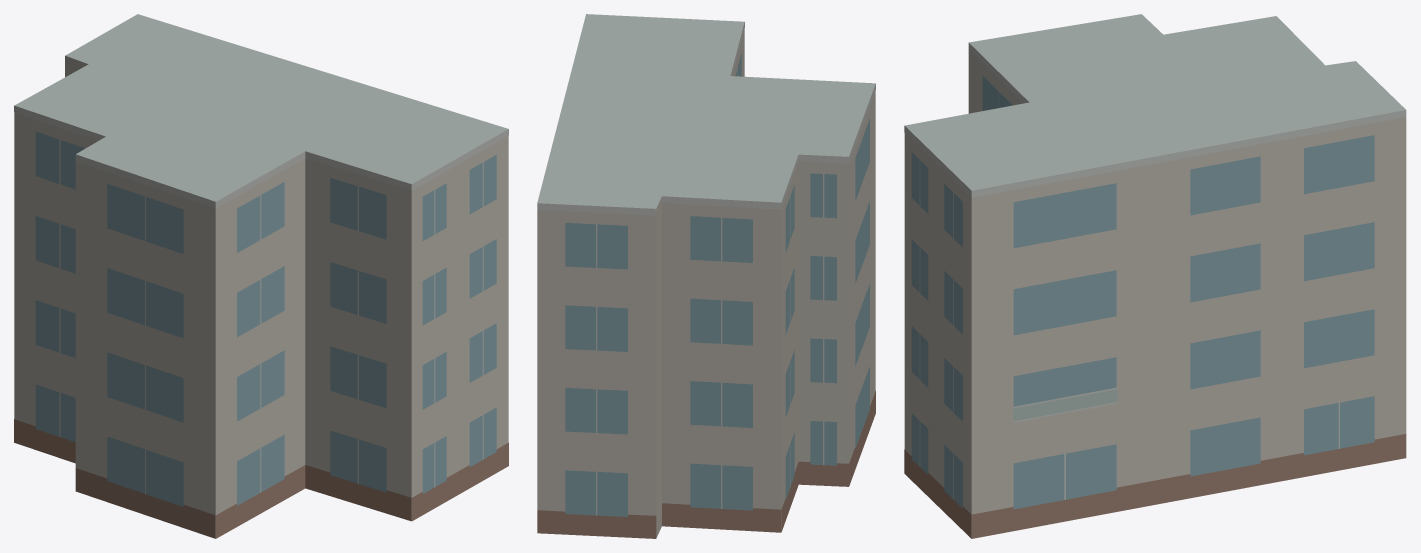
The model's file is survey-upis-32854658.glb.
The picture shows the model from 3 angles, left to right: view 1: azimuth 30°, elevation 25°; view 2: azimuth 150°, elevation 25°; view 3: azimuth 270°, elevation 25°; orthographic projection. The views are drawn at different scales.
Parts seen in each view (by area): view 1: survey-upis-32854658.tmp; view 2: survey-upis-32854658.tmp; view 3: survey-upis-32854658.tmp.
Part boxes in pixels (<box>): survey-upis-32854658.tmp: <box>14,14,508,538</box>; survey-upis-32854658.tmp: <box>537,14,875,538</box>; survey-upis-32854658.tmp: <box>904,14,1406,538</box>.
Bounding box in the file's own units: 13.11 × 12.03 × 15.73.
